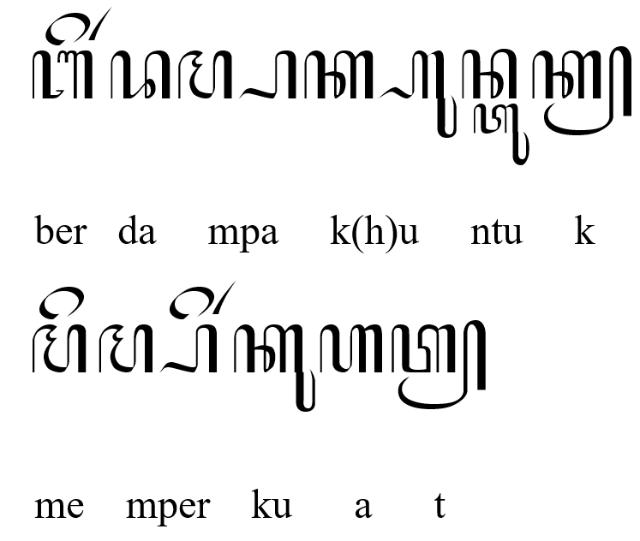-k: (531, 46, 633, 136)
-t: (390, 319, 488, 411)
_hu: (379, 50, 458, 138)
_p: (238, 48, 298, 102), (160, 322, 218, 375)
_r1: (213, 280, 237, 315), (90, 5, 112, 42)
b: (31, 49, 93, 99)
d: (110, 48, 172, 102)
e: (169, 284, 215, 322), (37, 286, 84, 320), (46, 11, 90, 45)
h: (319, 324, 383, 376)
k: (303, 48, 373, 102)
ku: (234, 323, 316, 413)
m: (176, 50, 234, 101), (99, 322, 155, 374), (31, 323, 88, 374)
n: (460, 49, 518, 101)
tu: (473, 102, 529, 166)
